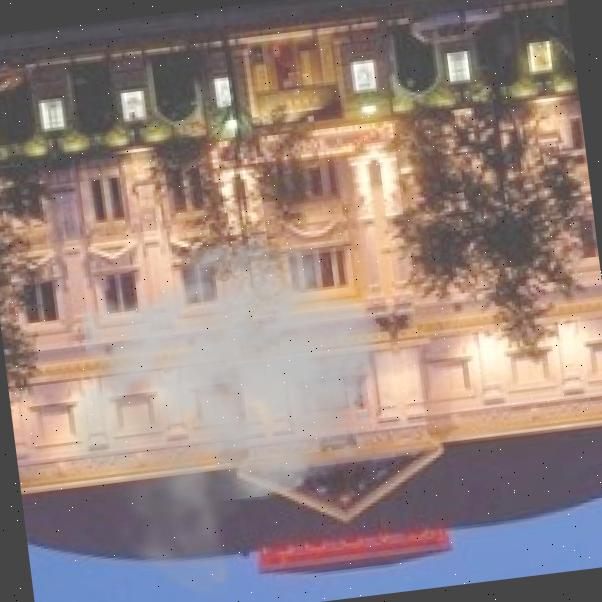smoke: (32, 213, 430, 602)
